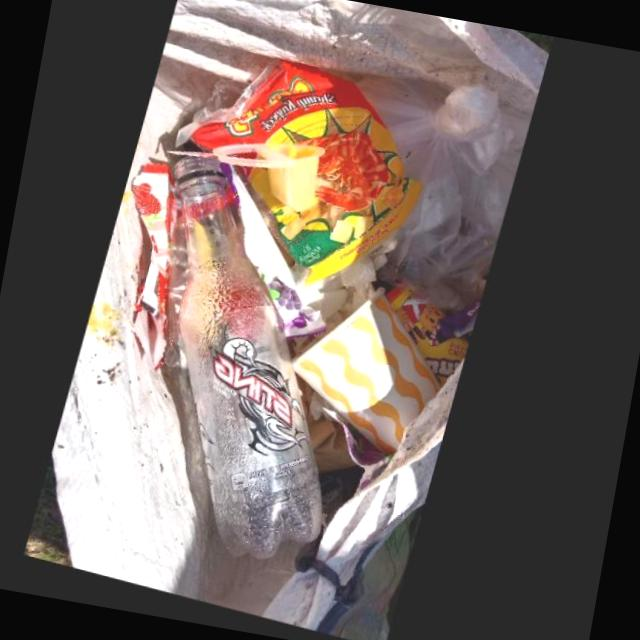bao_bi_thuc_pham: (177, 66, 426, 291), (231, 170, 353, 332), (134, 173, 182, 380)
carton: (299, 291, 447, 459)
chai_thuy_tinh: (174, 160, 332, 564)
tui_ni_long: (370, 78, 526, 290)
